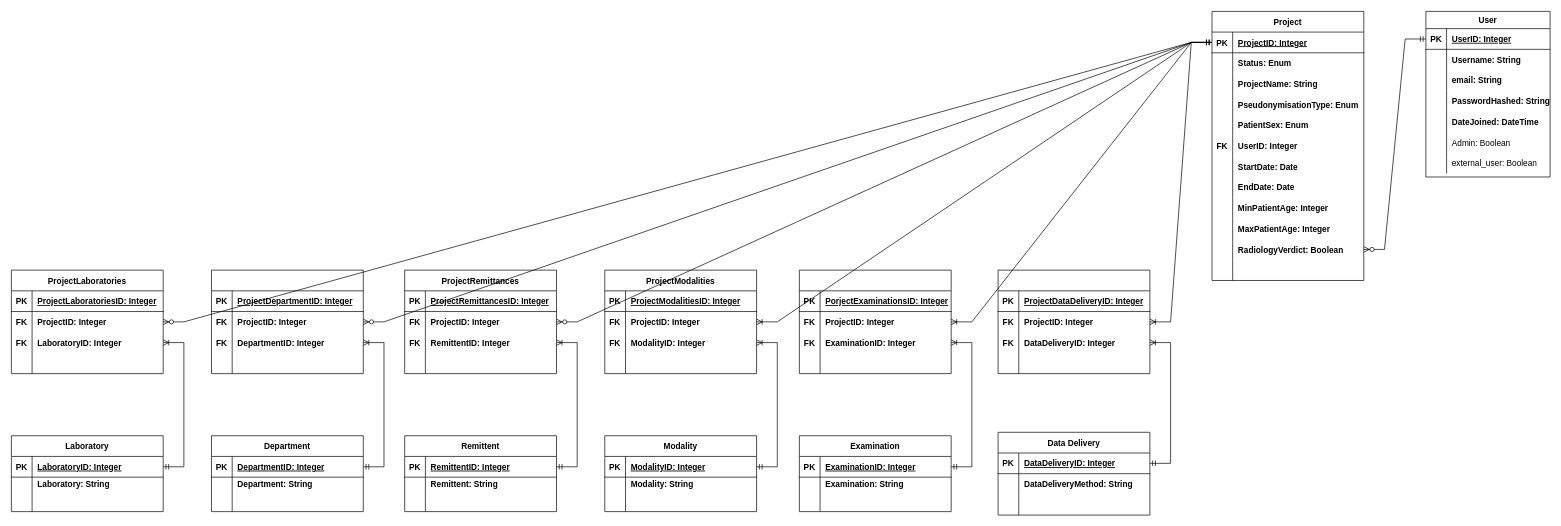
The diagram is 1561 pixels wide and 526 high, and some of its shapes have lost their labels. The shapes that lost their labels are listed below. From the top down, each one's box as (x1, y1, x2, y2) in pixels, then its label:
(211, 269, 363, 374): ProjectDepartments
(799, 269, 951, 374): ProjectExamionations
(997, 269, 1150, 374): ProejctDataDelivery
